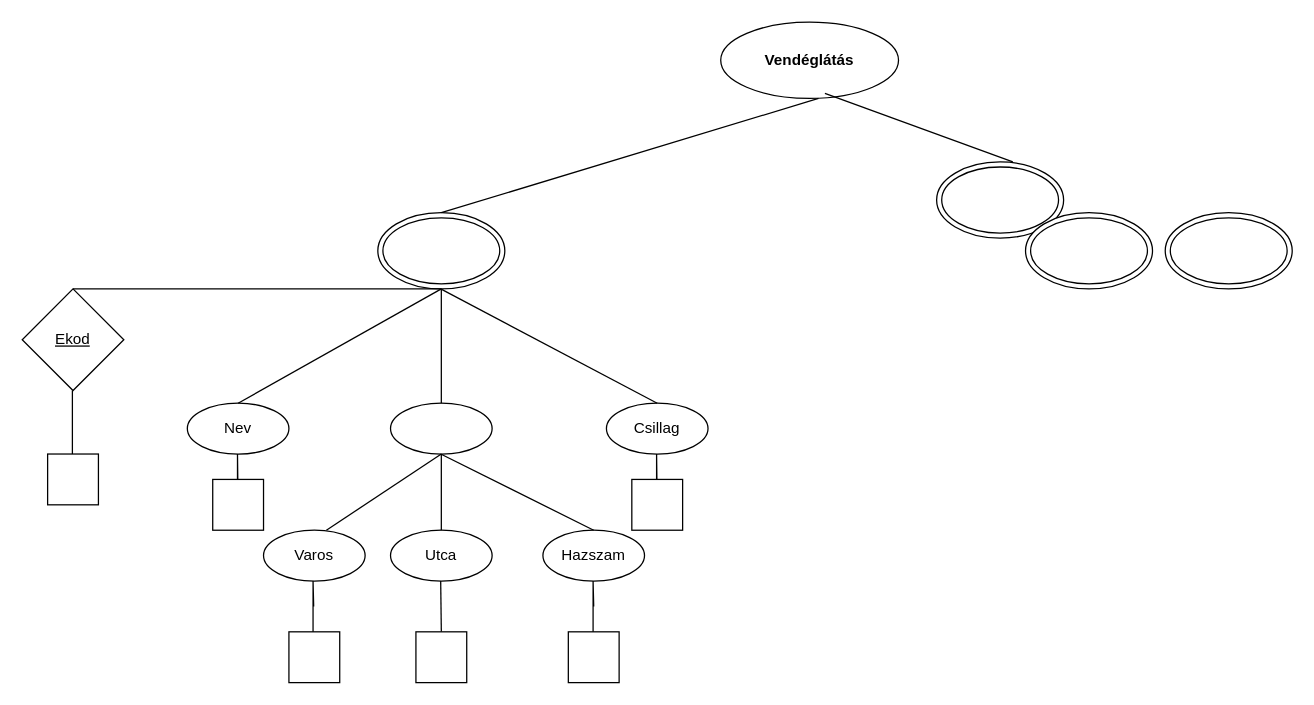
The diagram is 1314 pixels wide and 705 high, and some of its shapes have lost their labels. The centre of each missing label's shape, as x and y in pixels:
"Cim" belongs at (440,428).
"Etterem" belongs at (441,250).
